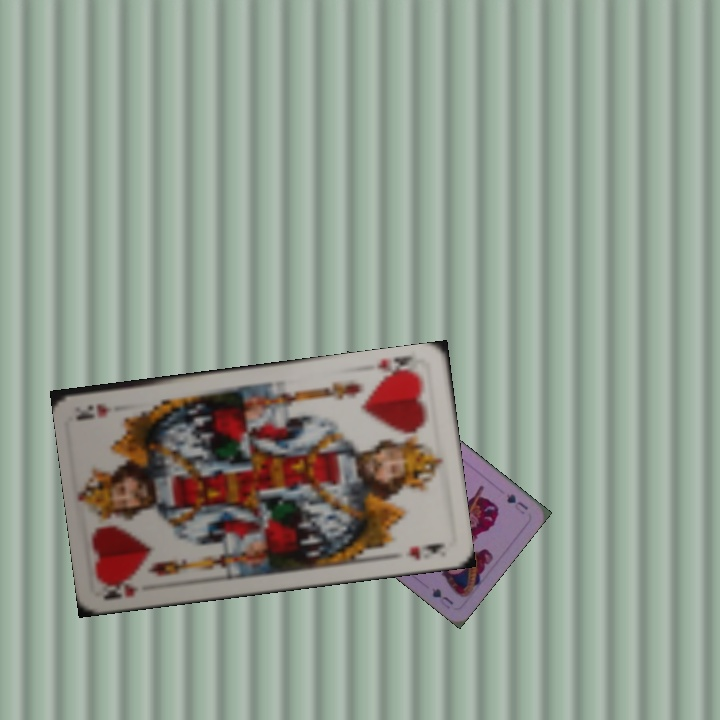GU: (502, 489, 531, 517)
HK: (372, 352, 423, 383), (99, 575, 142, 603)
